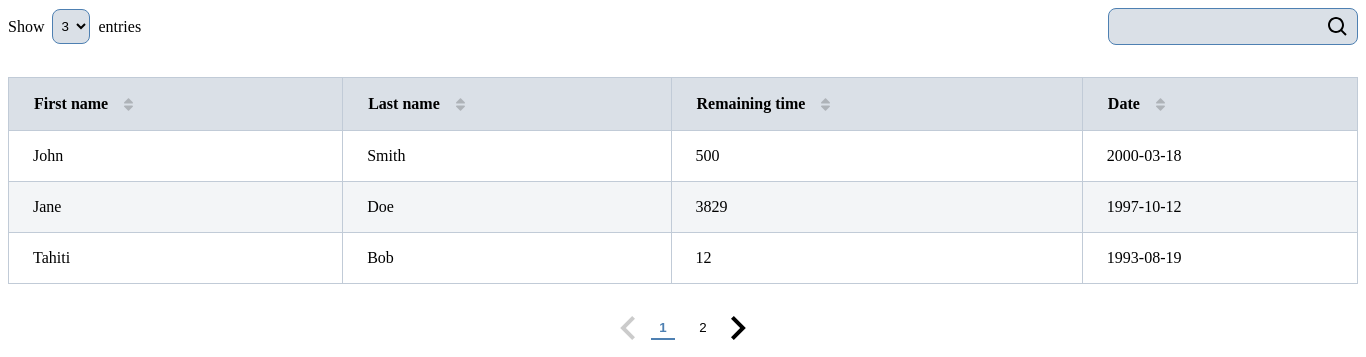
Test: Table › searching filters data
Type "jane" into the field with test id "search-bar" at {"x": 1218, "y": 26}, box x1=1109 y1=9 x2=1328 y2=44
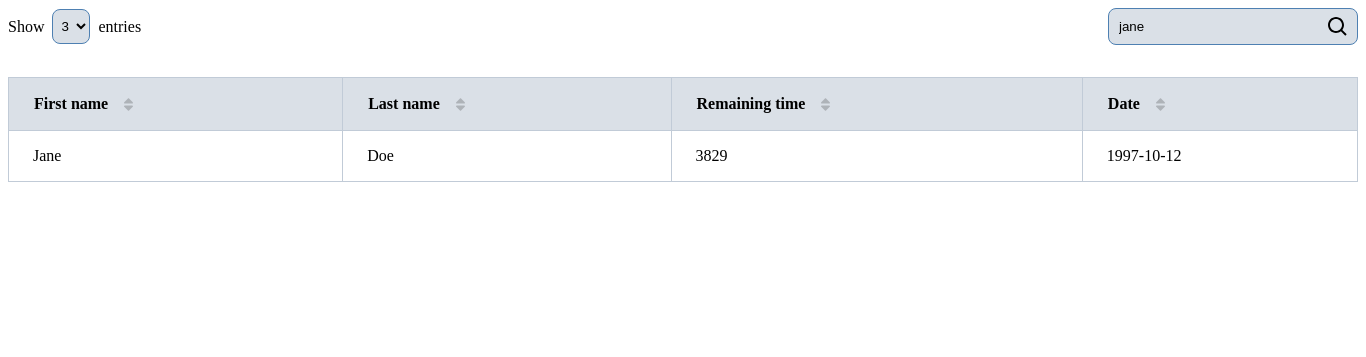
Expected: the number of rows with test id "table-row" is 1, x1=8 y1=130 x2=1358 y2=182
